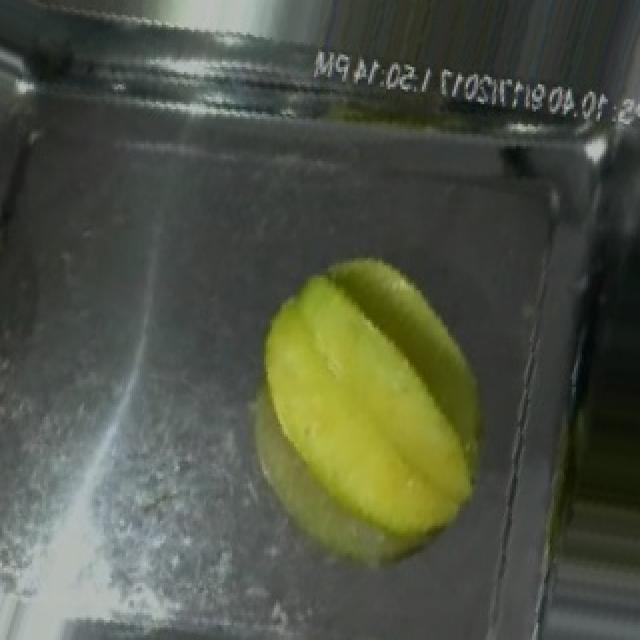fruit: (230, 233, 512, 588)
